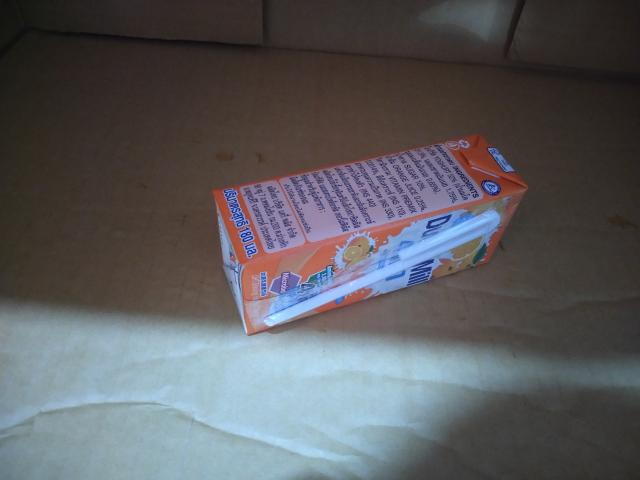drink_box: (190, 109, 555, 347)
